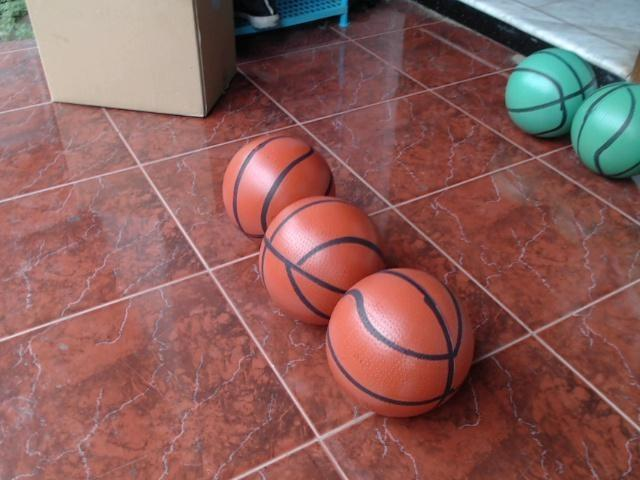Sports-Ball: (330, 263, 479, 422), (259, 186, 386, 327), (220, 132, 337, 238), (504, 42, 603, 144), (570, 80, 640, 177)
